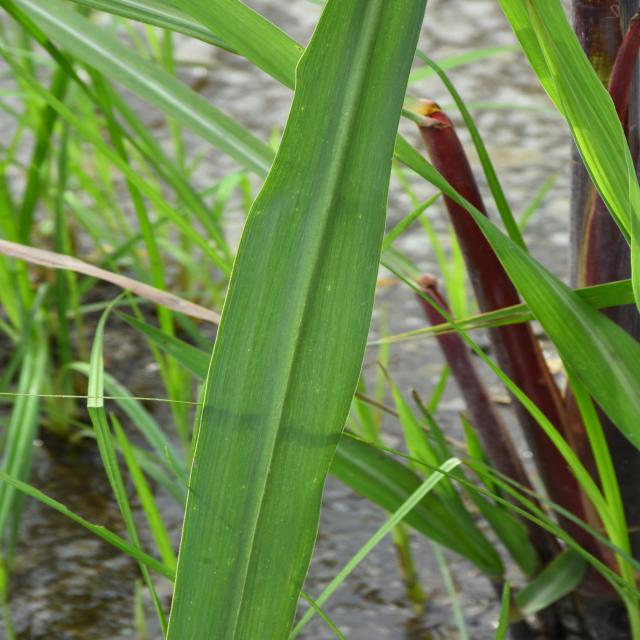Sugarcane: (163, 0, 426, 640)
